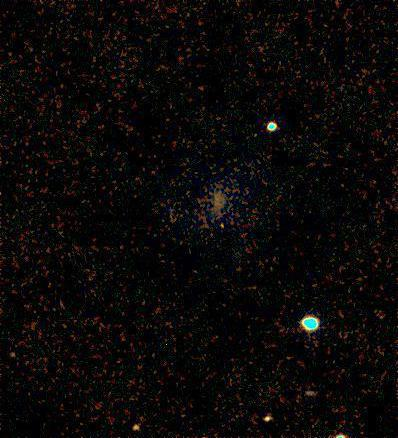star: (204, 209, 234, 239)
